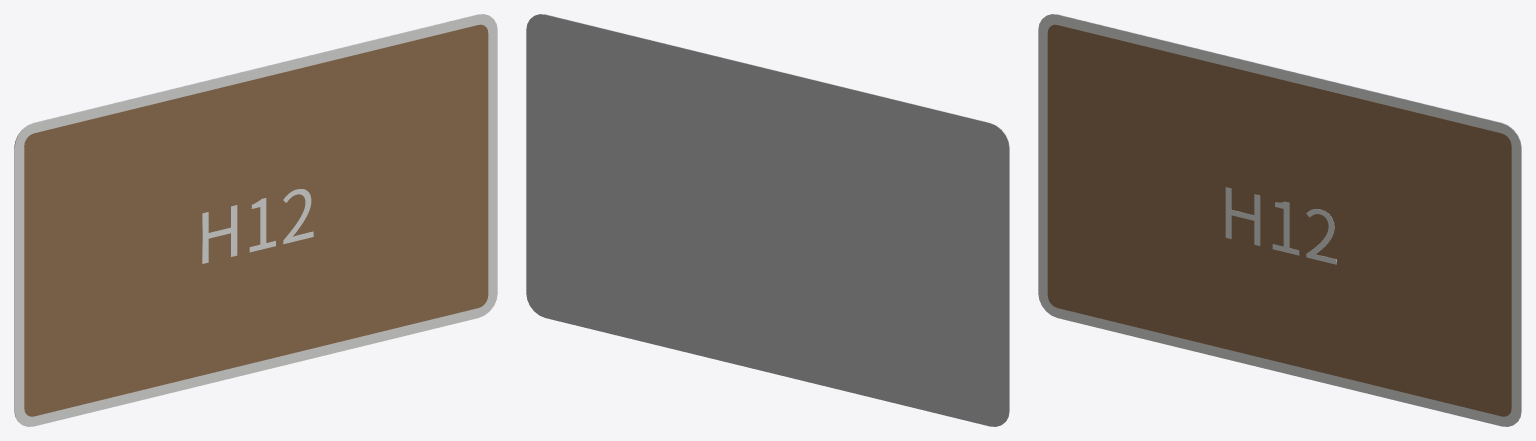
The picture shows the model from 3 angles, left to right: view 1: azimuth 30°, elevation 25°; view 2: azimuth 150°, elevation 25°; view 3: azimuth 330°, elevation 25°; orthographic projection.
Parts seen in each view (by area): view 1: H12_fond01, H12_cadre00, H12_txt02, H12_dos; view 2: H12_dos; view 3: H12_fond01, H12_cadre00, H12_txt02, H12_dos.
Part boxes in pixels (x1,y1,x2,y2): H12_fond01: [24, 24, 488, 416]; H12_cadre00: [14, 14, 497, 426]; H12_txt02: [202, 189, 313, 263]; H12_dos: [14, 14, 487, 420]; H12_dos: [526, 14, 1009, 426]; H12_fond01: [1047, 24, 1511, 416]; H12_cadre00: [1038, 14, 1521, 426]; H12_txt02: [1225, 187, 1336, 264]; H12_dos: [1048, 14, 1521, 420].
Size of the model in its own units: 1 by 0.6 by 0.0025.
